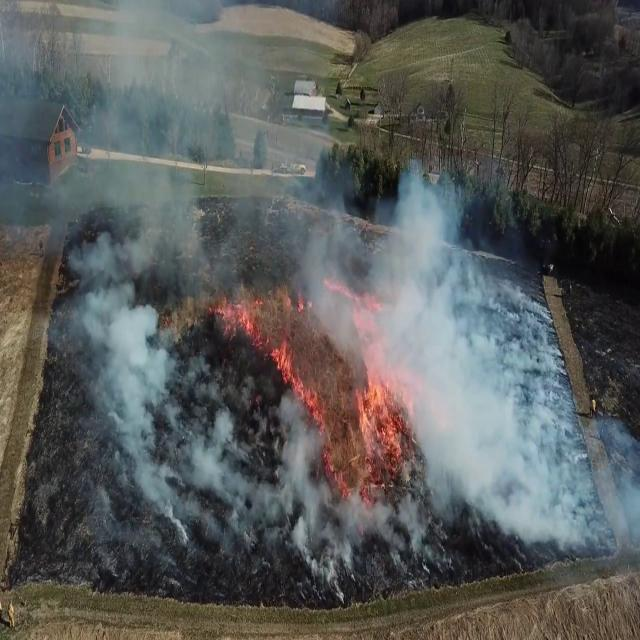Fire: (246, 259, 411, 506)
Smoke: (1, 13, 540, 585)
